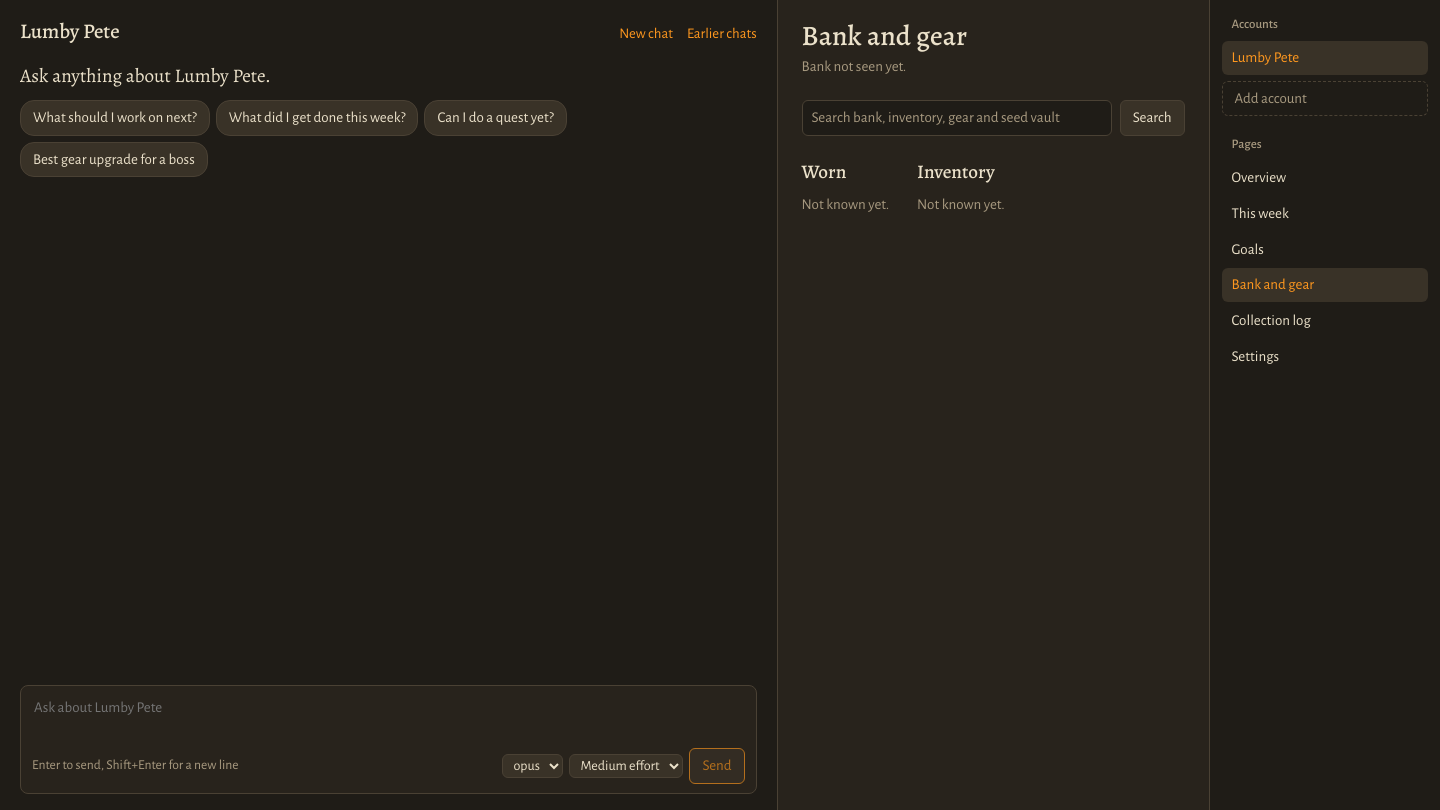
it: BankGear › searches the bank, seed vault, inventory and gear, and says where each find is
Type "blood" into the search field labelled "Search bank, inventory, gear and seed vault" at {"x": 957, "y": 118}, box [802,100,1112,136]
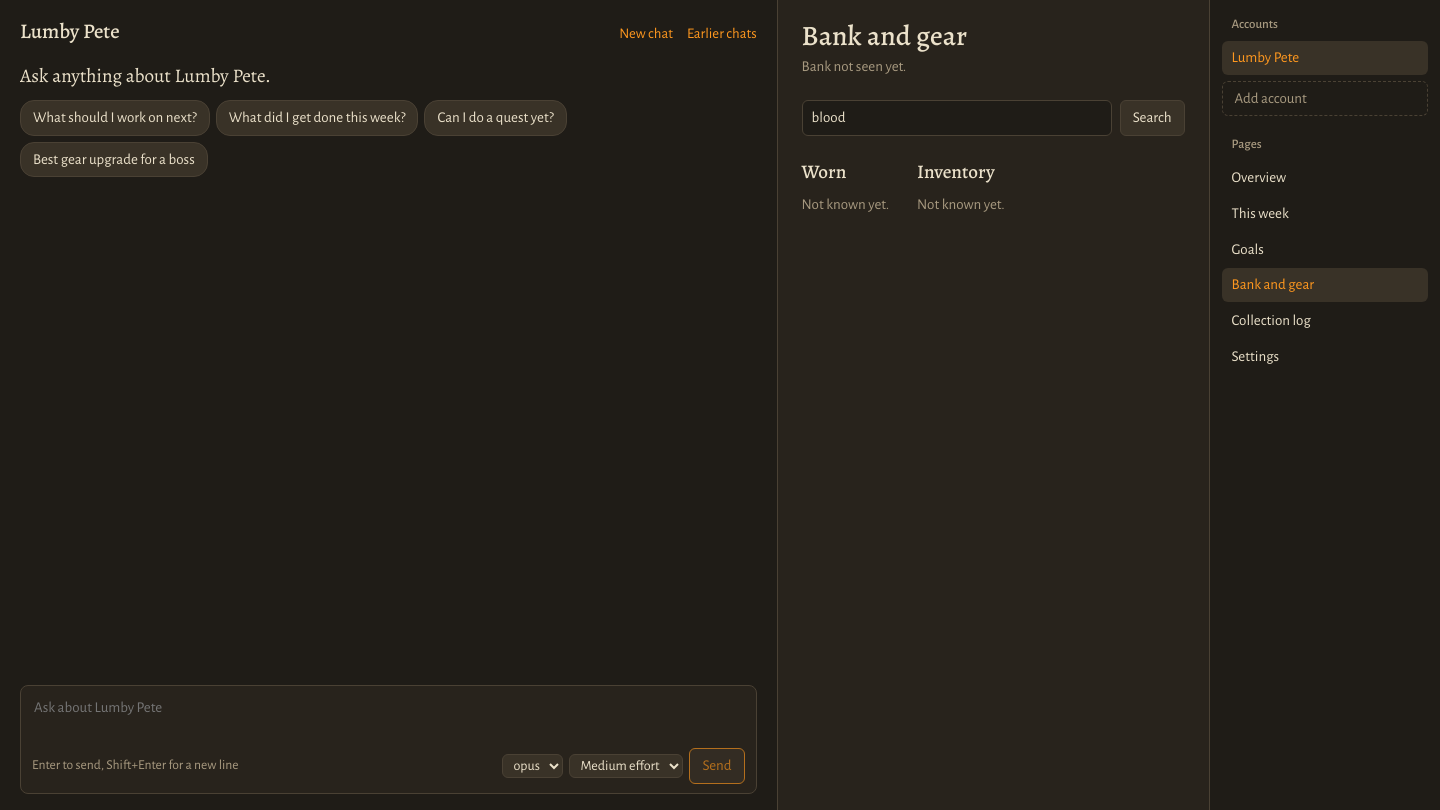
Click the button "Search" at {"x": 1152, "y": 118}, box [1120,100,1185,136]
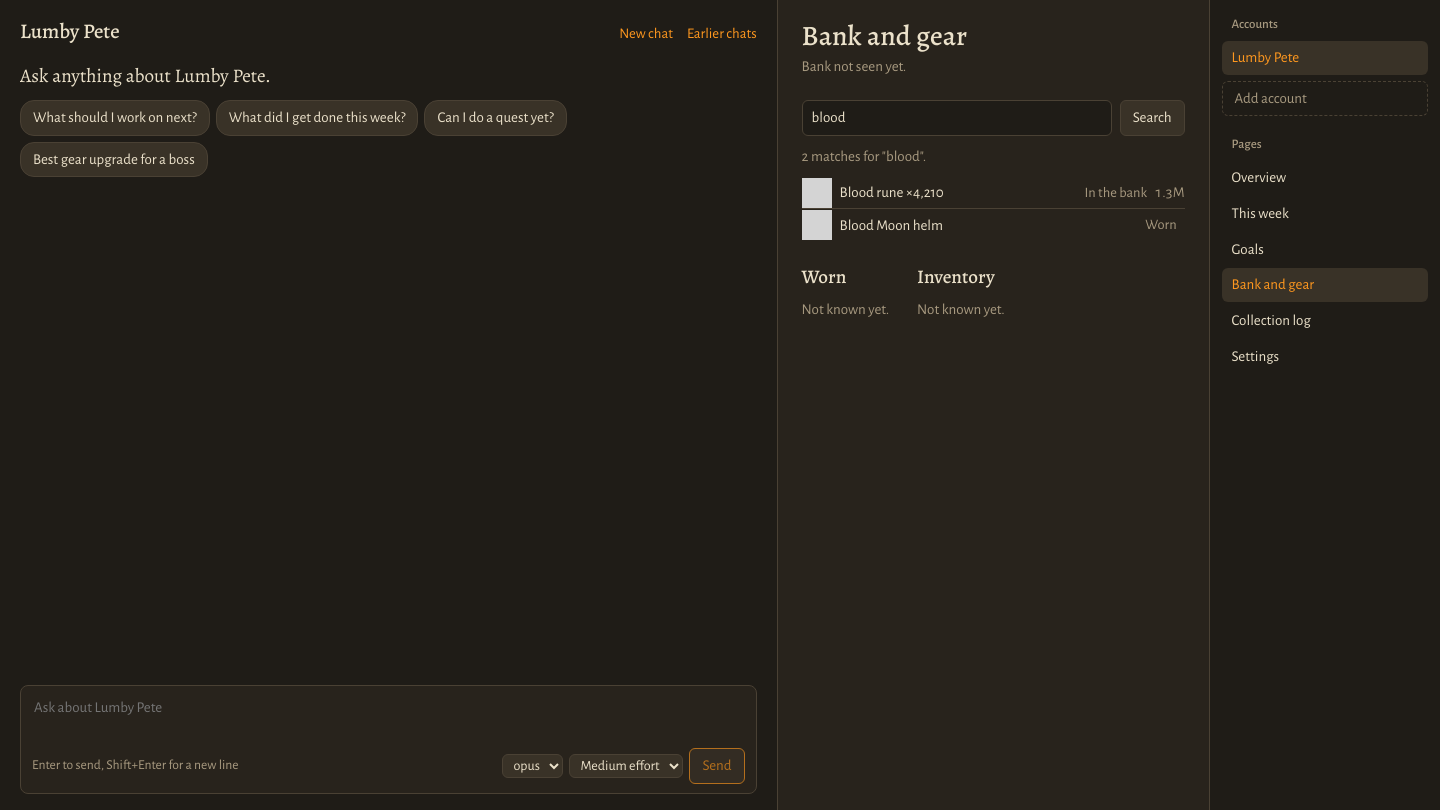
Now the list items read "Blood rune ×4,210In the bank1.3M", "Blood Moon helmWorn", in this order, box [802,177,1185,209]; [802,209,1185,241]
Now the message reads "2 matches for \"blood\".", box [802,149,926,164]
